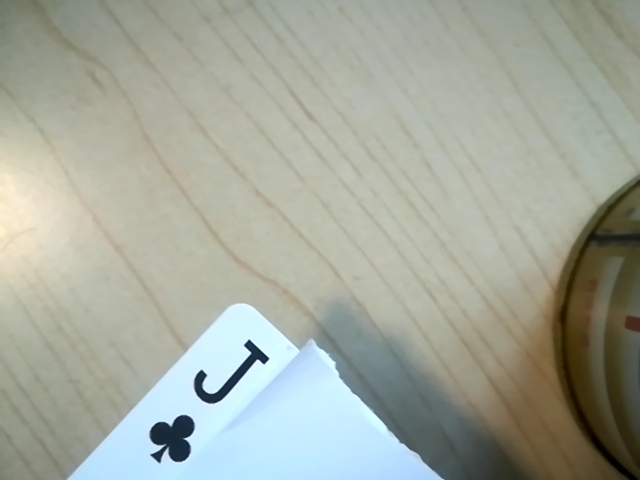mh j: (144, 335, 280, 462)
